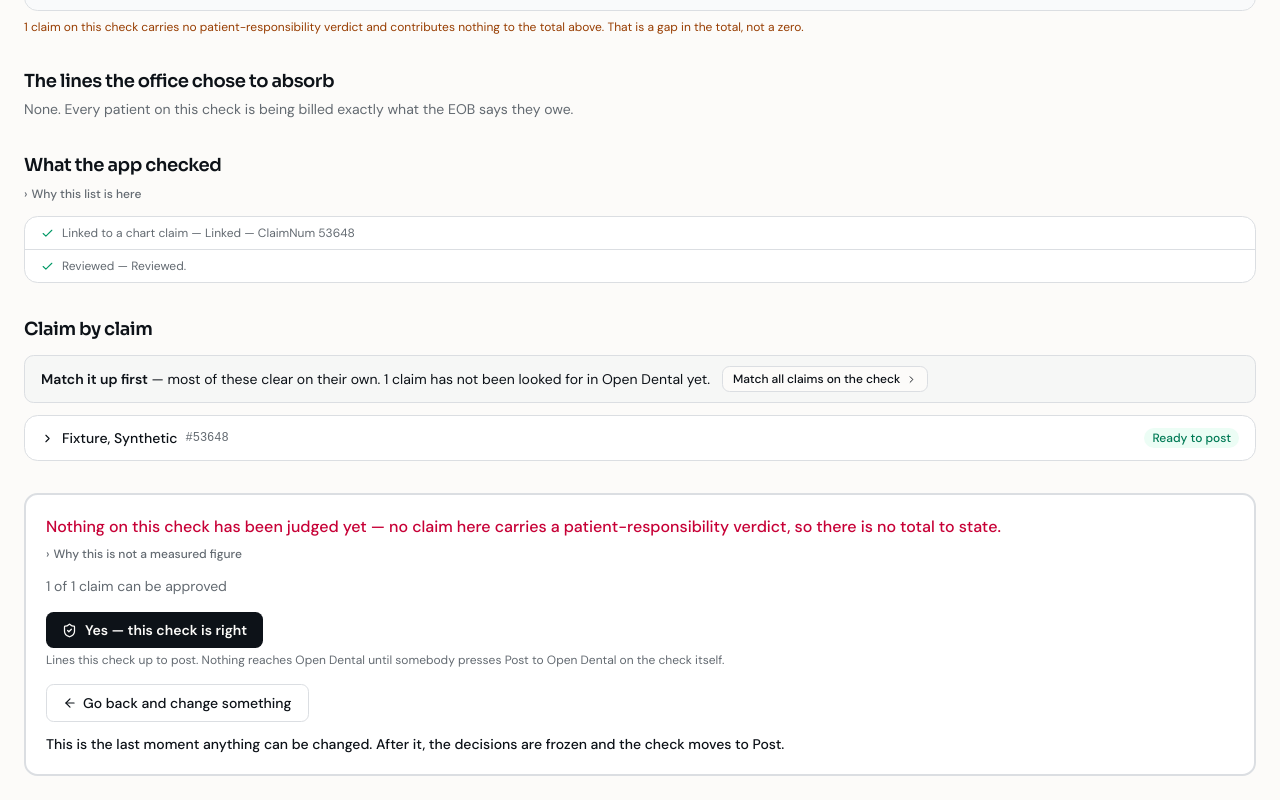
Test case: the remittance detail › an honest refusal keeps the checklist on screen and lists the reasons
The image size is (1280, 800).
(page scrolled)
Click the button with test id "approve-button": {"x": 155, "y": 630} left=46, top=612, right=263, bottom=648
(page scrolled)
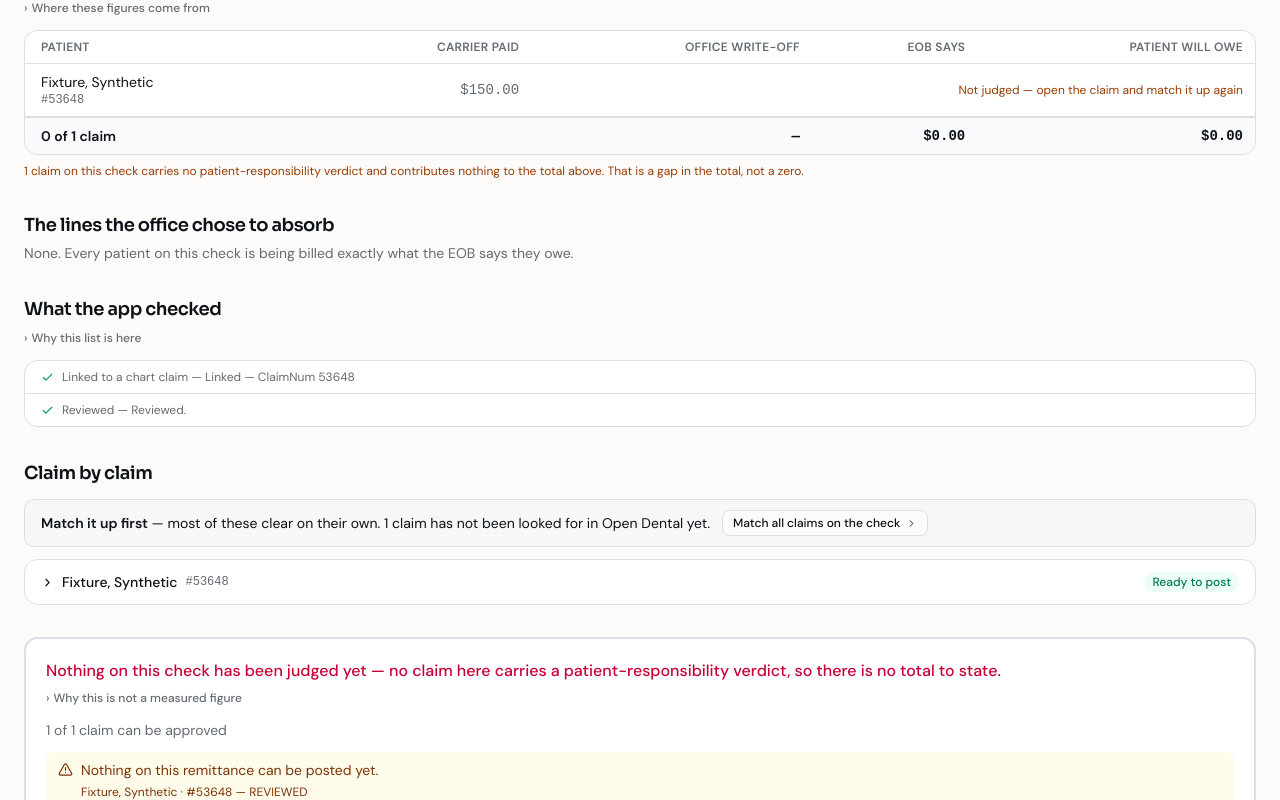
Check: the element with test id "approve-error" shows "Nothing on this remittance can be posted yet.", box left=81, top=761, right=378, bottom=779
Check: the element with test id "approve-error" shows "REVIEWED", box left=249, top=784, right=308, bottom=799
